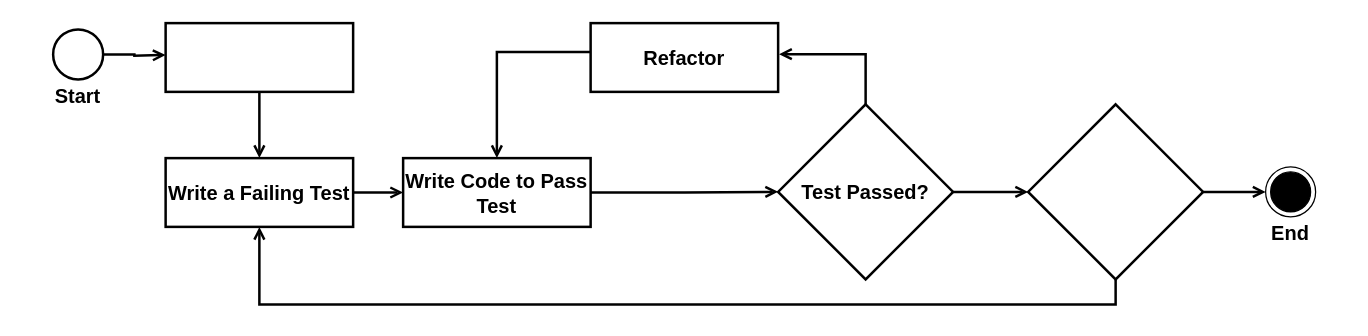
The diagram is 1368 pixels wide and 336 high, and some of its shapes have lost their labels. The box of each missing label's shape, as (x1, y1, x2, y2) in pixels:
Get Requirements: (164, 21, 354, 92)
Is There More Aspects to Test?: (1026, 102, 1204, 280)
